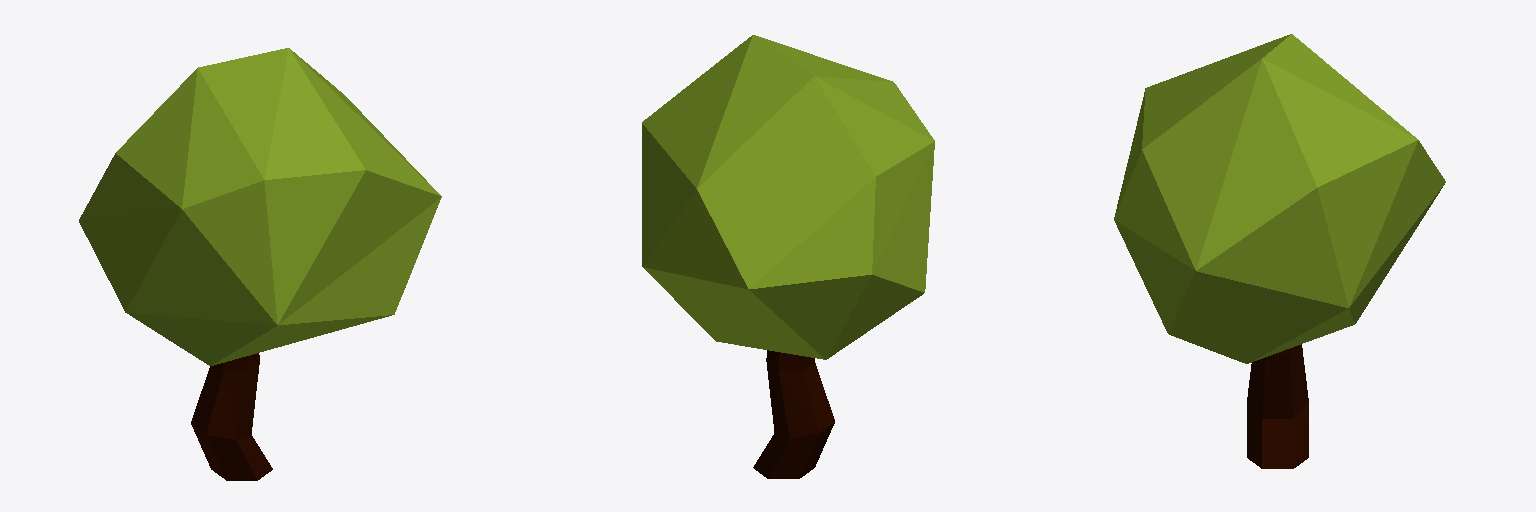
File: Bush1.obj
3 renders of one model, left to right at view 1: azimuth 30°, elevation 25°; view 2: azimuth 150°, elevation 25°; view 3: azimuth 270°, elevation 25°, orthographic.
Parts seen in each view (by area): view 1: Bush1_Icosphere; view 2: Bush1_Icosphere; view 3: Bush1_Icosphere.
Part boxes in pixels (x1,y1,x2,y2): Bush1_Icosphere: (79, 48, 441, 480); Bush1_Icosphere: (642, 35, 934, 478); Bush1_Icosphere: (1114, 34, 1445, 468).
Size of the model in its own units: 1.07 by 1.49 by 1.07.